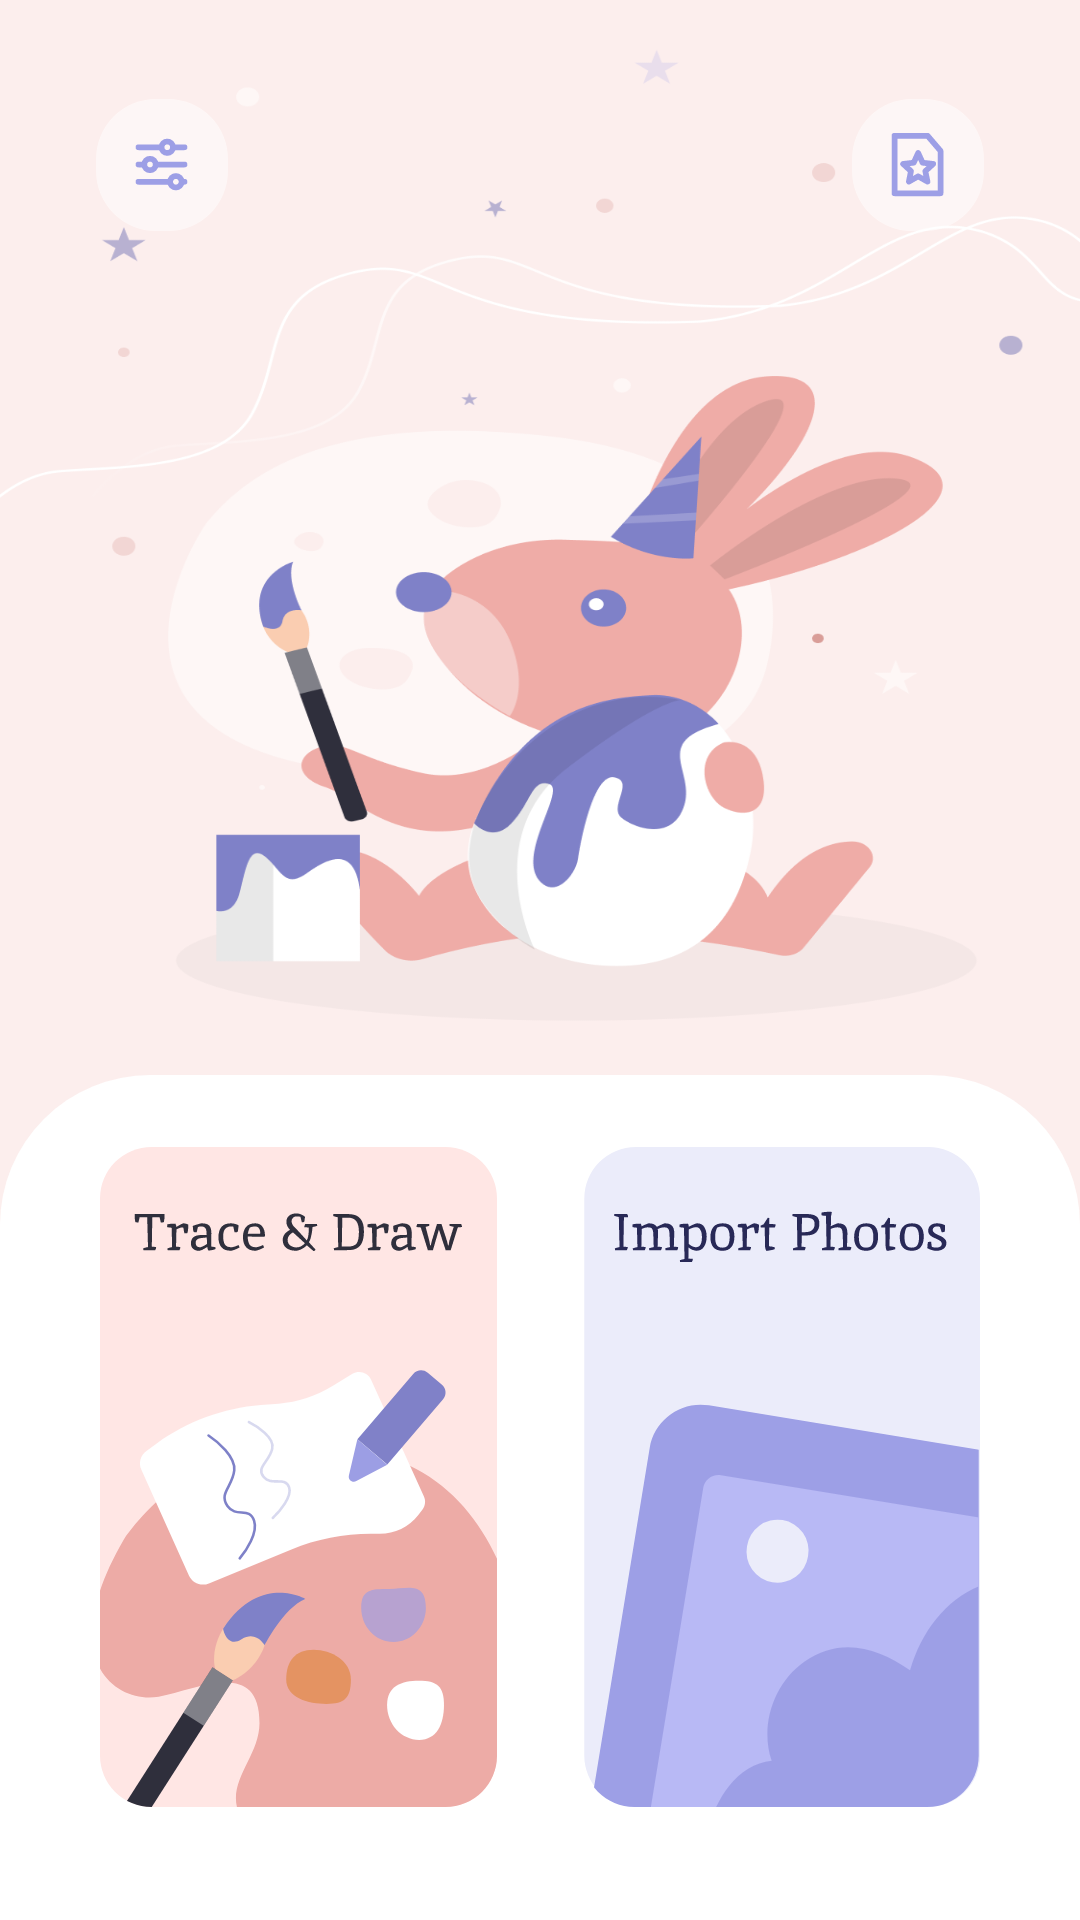

Icons on this 1080px x 1920px Android screen, each with the point to tap as (x,y):
collection: (917,165)
setting: (161,165)
